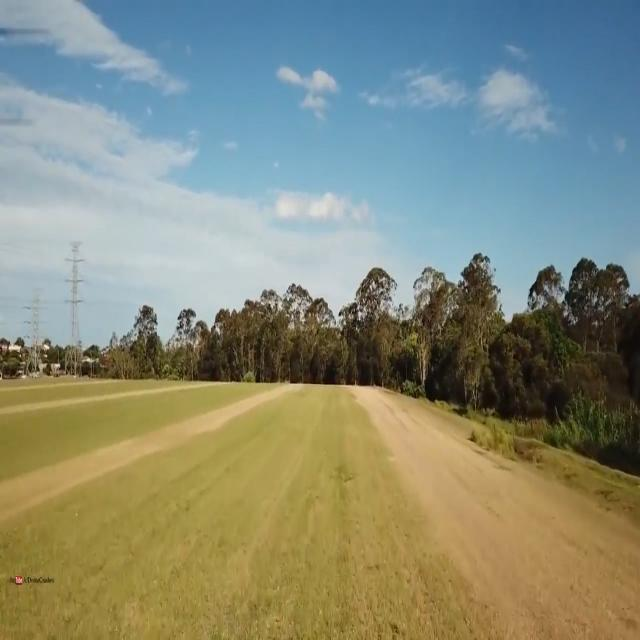Tree: (505, 260, 571, 420), (574, 253, 638, 418), (335, 258, 399, 389), (455, 246, 504, 406), (397, 262, 452, 393), (258, 275, 312, 389), (108, 298, 172, 384), (213, 300, 255, 387), (301, 291, 341, 382), (172, 300, 212, 382)
